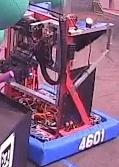blue_number: (77, 127, 106, 154)
